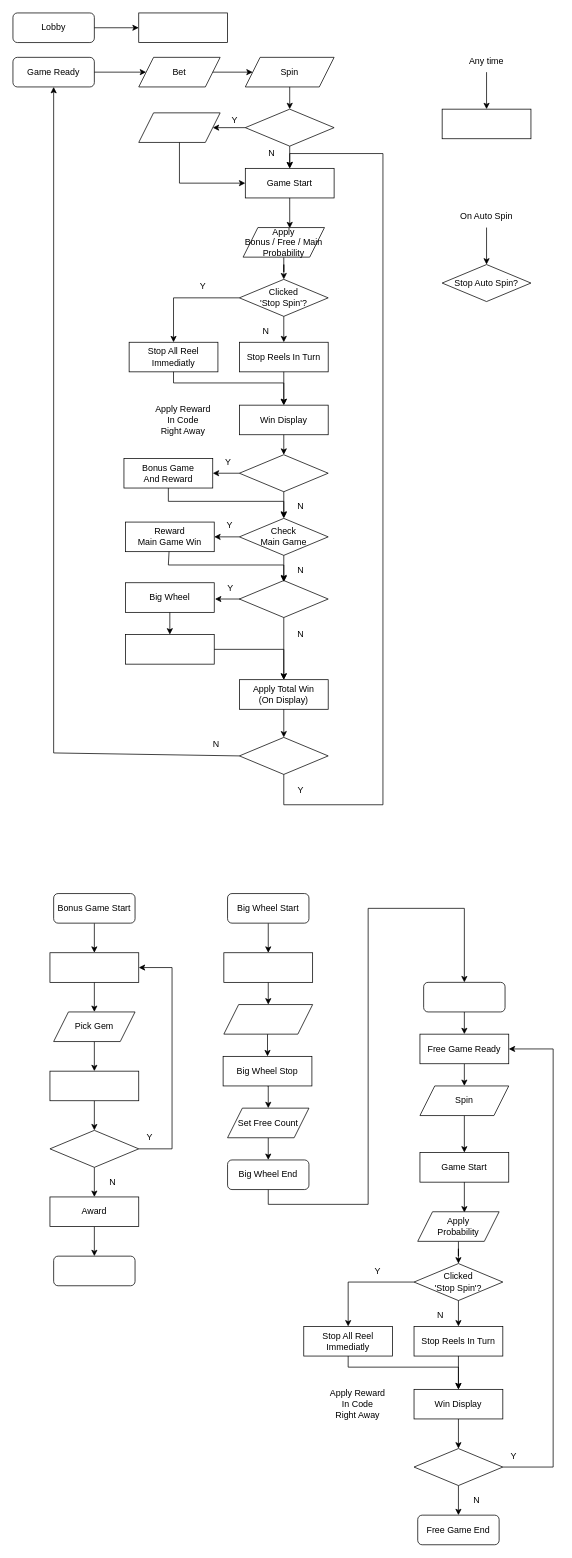
Some shapes in this 572 by 1558 pixel diagram are drawn without their labels. The shapes that lost their labels are listed below. From the top down, each one's centre as x and y in pixels, then its label:
At pixel 183 27: "Game Selection".
At pixel 179 127: "Set Auto Spin Count".
At pixel 289 127: "Trigger Auto Spin?".
At pixel 486 123: "Open Paytable".
At pixel 283 473: "Check Bonus Game".
At pixel 283 599: "Check Free Game".
At pixel 169 649: "Free Game".
At pixel 283 755: "Auto Spin?".
At pixel 94 967: "Bonus Game Ready".
At pixel 268 967: "Big Wheel Ready".
At pixel 464 997: "Free Game Start".
At pixel 268 1019: "Big Wheel Spin".
At pixel 94 1085: "Animate Win".
At pixel 94 1148: "More Pick?".
At pixel 94 1270: "Bonus Game End Move Back To Main".
At pixel 458 1467: "More Spin?".
